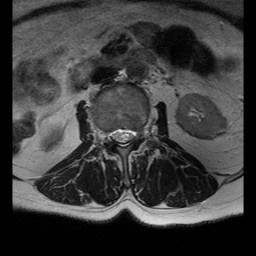CCS_normal: (118, 119, 126, 153)
LFS_normal: (136, 119, 144, 146)
LLS_normal: (126, 120, 136, 148)
RFS_normal: (101, 121, 110, 149)
RLS_normal: (109, 121, 118, 148)
